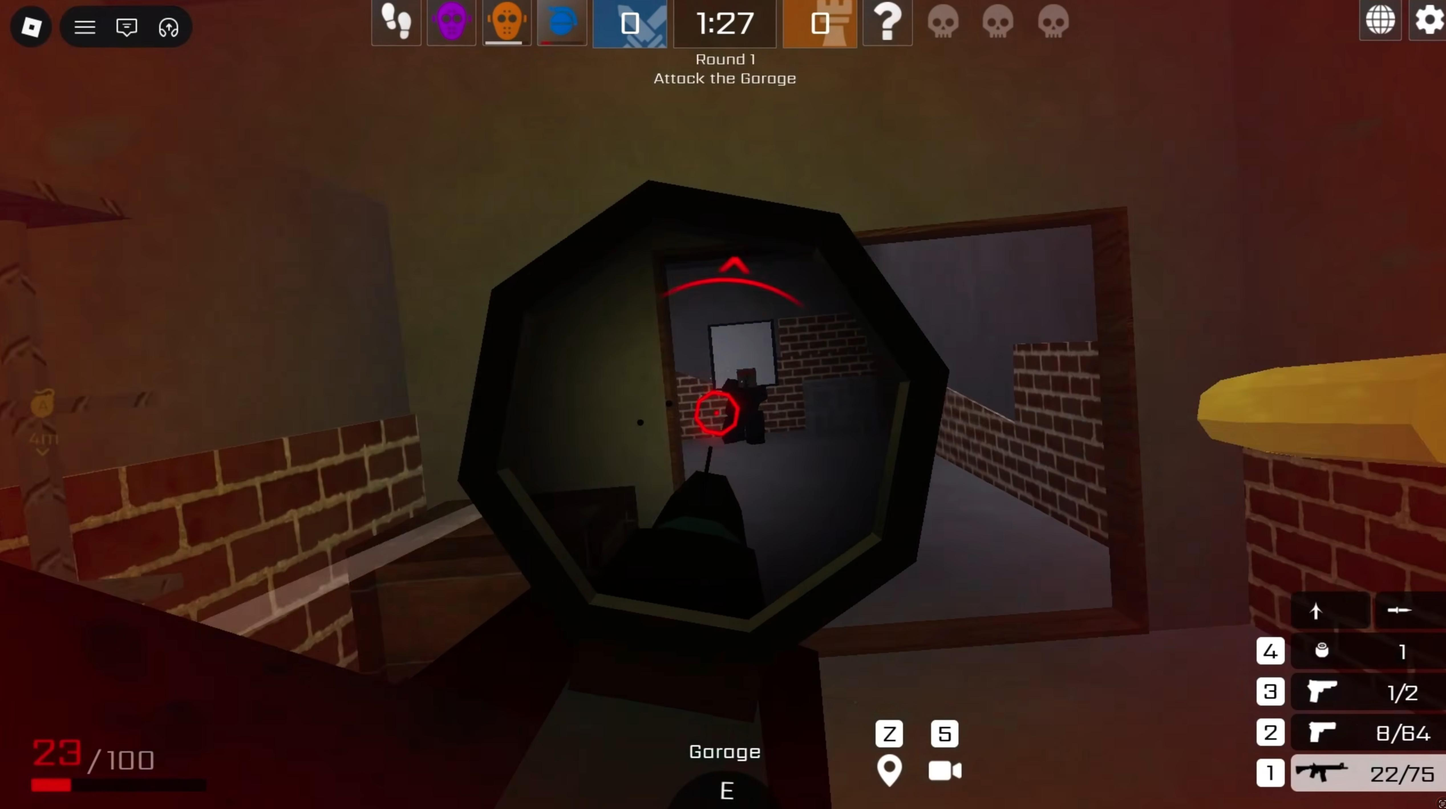enemy: (717, 355, 780, 450)
